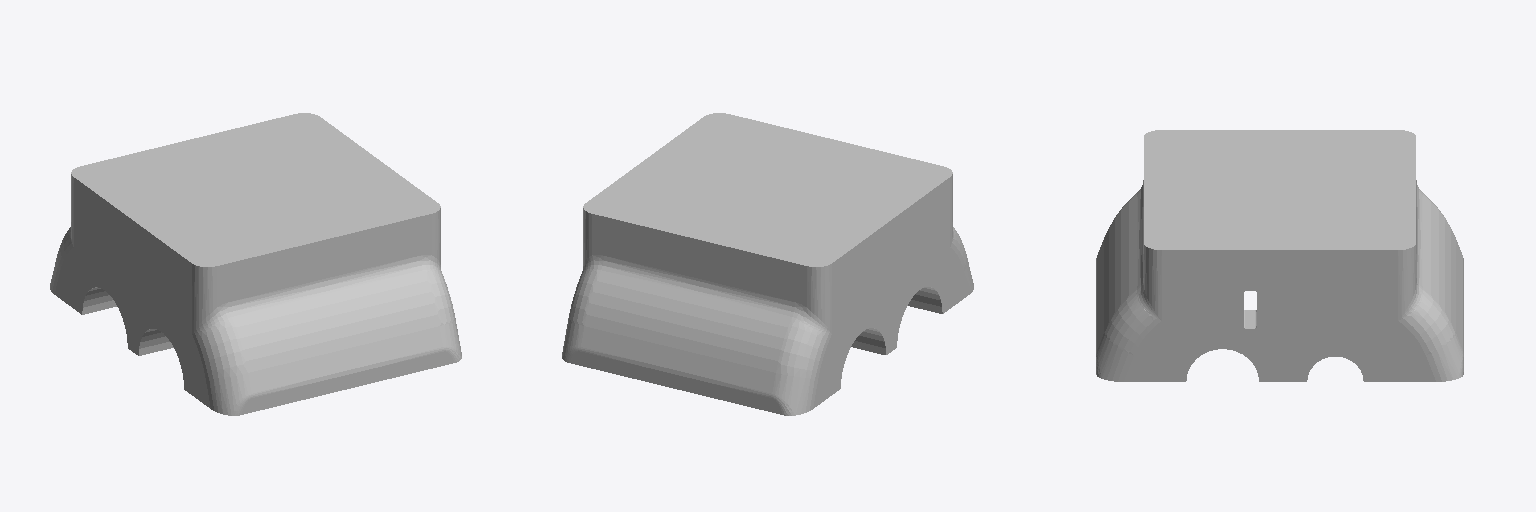
Rendered from N0-000_pc_gfx.obj.
3 renders of one model, left to right at view 1: azimuth 30°, elevation 25°; view 2: azimuth 150°, elevation 25°; view 3: azimuth 270°, elevation 25°, orthographic.
Parts seen in each view (by area): view 1: N0-000_N0-000.001; view 2: N0-000_N0-000.001; view 3: N0-000_N0-000.001.
Boxes of the visible parts, <box> form: N0-000_N0-000.001: <box>50,113,461,415</box>; N0-000_N0-000.001: <box>562,113,973,415</box>; N0-000_N0-000.001: <box>1096,130,1463,381</box>.
Bounding box in the file's own units: 1.27 × 0.648 × 1.64.